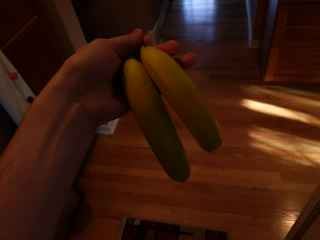banana: (119, 57, 194, 186), (139, 45, 224, 154)
